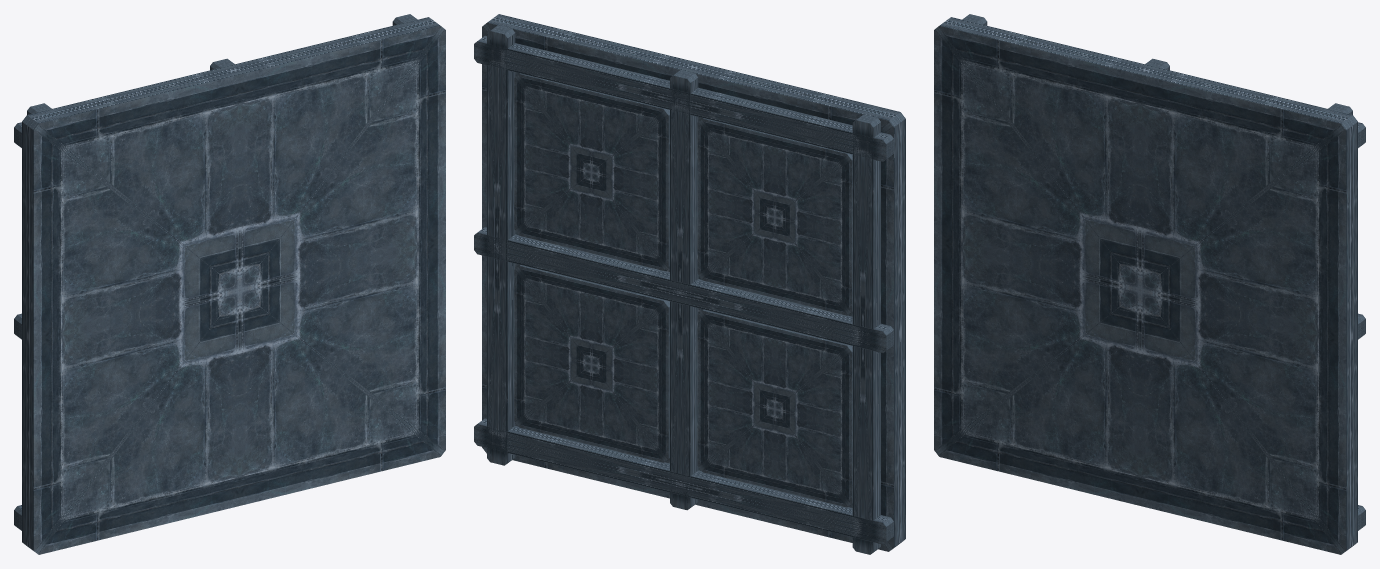
File: rv_interior_ceiling.obj
The picture shows the model from 3 angles, left to right: view 1: azimuth 30°, elevation 25°; view 2: azimuth 150°, elevation 25°; view 3: azimuth 330°, elevation 25°; orthographic projection.
Parts seen in each view (by area): view 1: rv_interior_ceiling; view 2: rv_interior_ceiling; view 3: rv_interior_ceiling.
Part boxes in pixels (<box>): rv_interior_ceiling: <box>14,14,445,554</box>; rv_interior_ceiling: <box>474,14,905,554</box>; rv_interior_ceiling: <box>934,14,1365,554</box>.
Bounding box in the file's own units: 8 × 8 × 0.66.
1 material, 1 textured.
